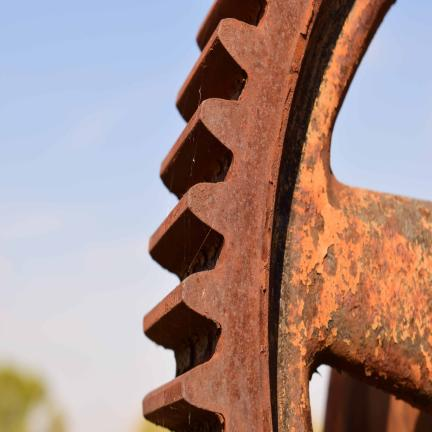karat: (134, 0, 431, 431)
